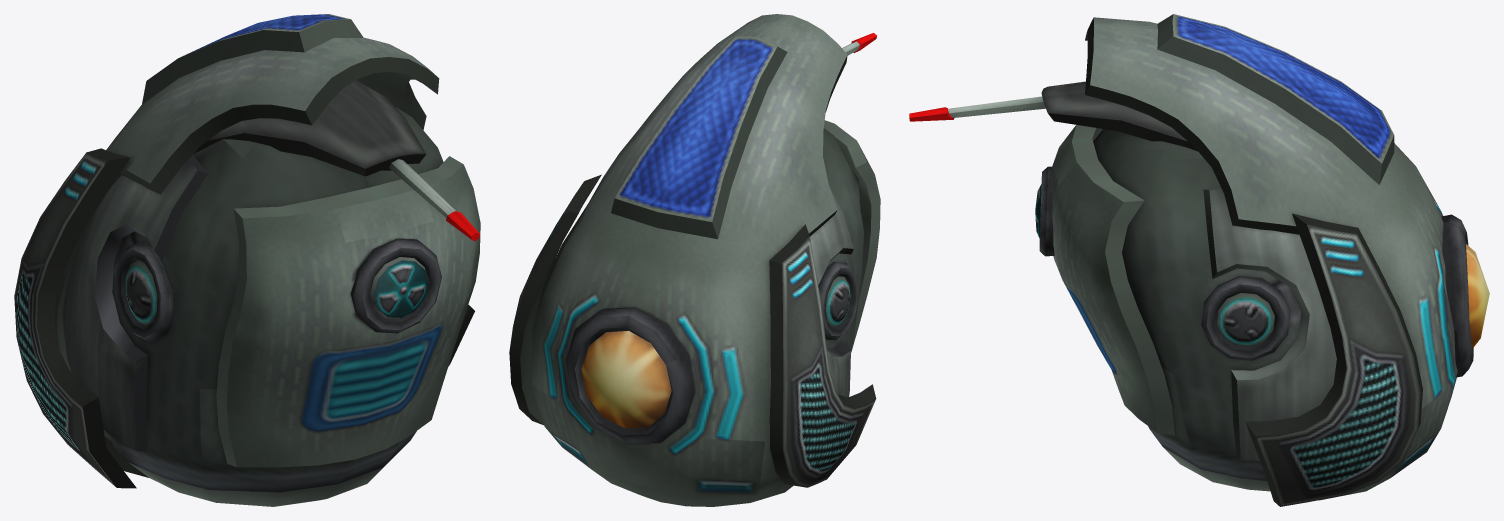
The picture shows the model from 3 angles, left to right: view 1: azimuth 30°, elevation 25°; view 2: azimuth 150°, elevation 25°; view 3: azimuth 270°, elevation 25°; orthographic projection. The views are drawn at different scales.
Visible parts, largest first — view 1: Mesh; view 2: Mesh; view 3: Mesh.
Boxes of the visible parts, bbox=[...] form: Mesh: bbox=[14, 14, 480, 506]; Mesh: bbox=[509, 14, 880, 506]; Mesh: bbox=[909, 14, 1489, 506].
Bounding box in the file's own units: 0.7822 × 0.9442 × 1.13.
